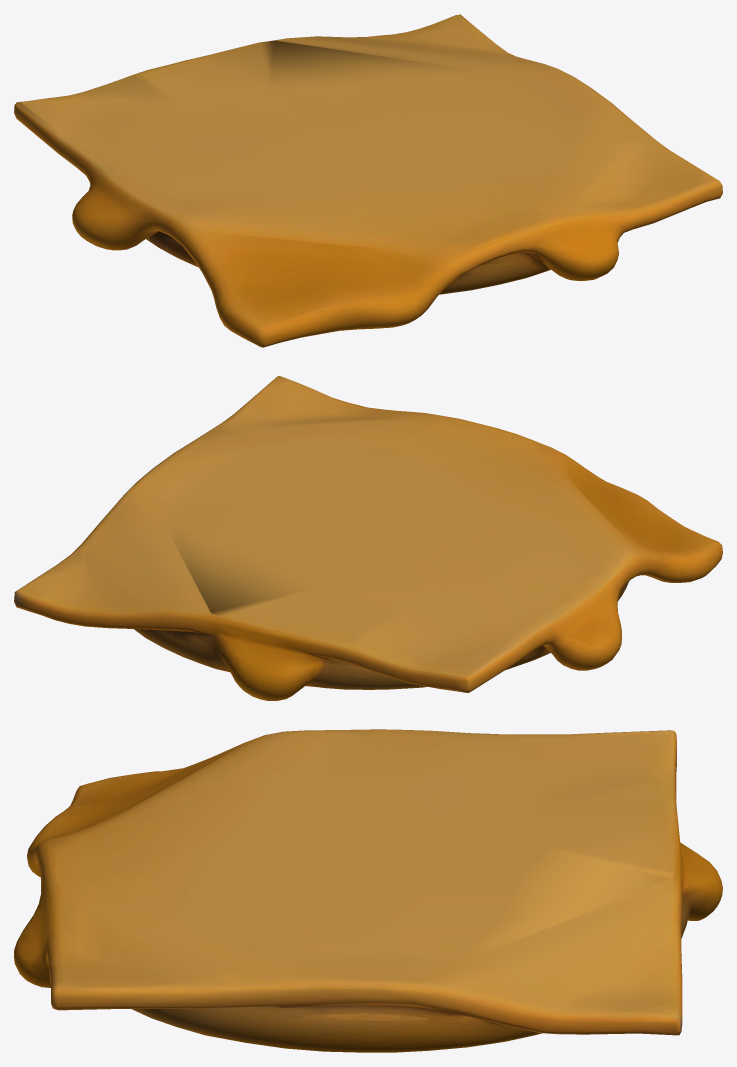
The model's file is cheese-v2.optimized.glb.
3 renders of one model, top to bottom at view 1: azimuth 30°, elevation 25°; view 2: azimuth 150°, elevation 25°; view 3: azimuth 270°, elevation 25°, orthographic. The views are drawn at different scales.
Parts seen in each view (by area): view 1: material; view 2: material; view 3: material.
Boxes of the visible parts, left/top/right/bottom form: material: left=14, top=14, right=722, bottom=347; material: left=14, top=376, right=722, bottom=700; material: left=14, top=729, right=722, bottom=1052.
Bounding box in the file's own units: 1.84 × 0.2441 × 1.9.
Materials: 1 (1 with a texture image).
